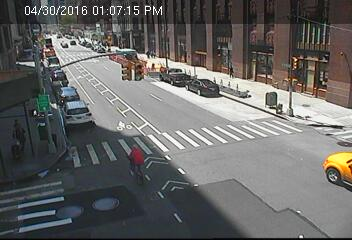neg: (116, 139, 153, 188), (178, 78, 192, 98), (271, 13, 285, 32), (204, 123, 218, 141), (289, 53, 303, 71), (91, 49, 104, 68), (257, 94, 270, 112), (323, 80, 336, 98), (79, 82, 90, 97), (216, 17, 227, 32), (277, 95, 287, 109), (73, 12, 83, 25), (155, 93, 162, 102)
pos: (226, 63, 237, 78), (149, 50, 157, 60), (146, 47, 153, 57)
